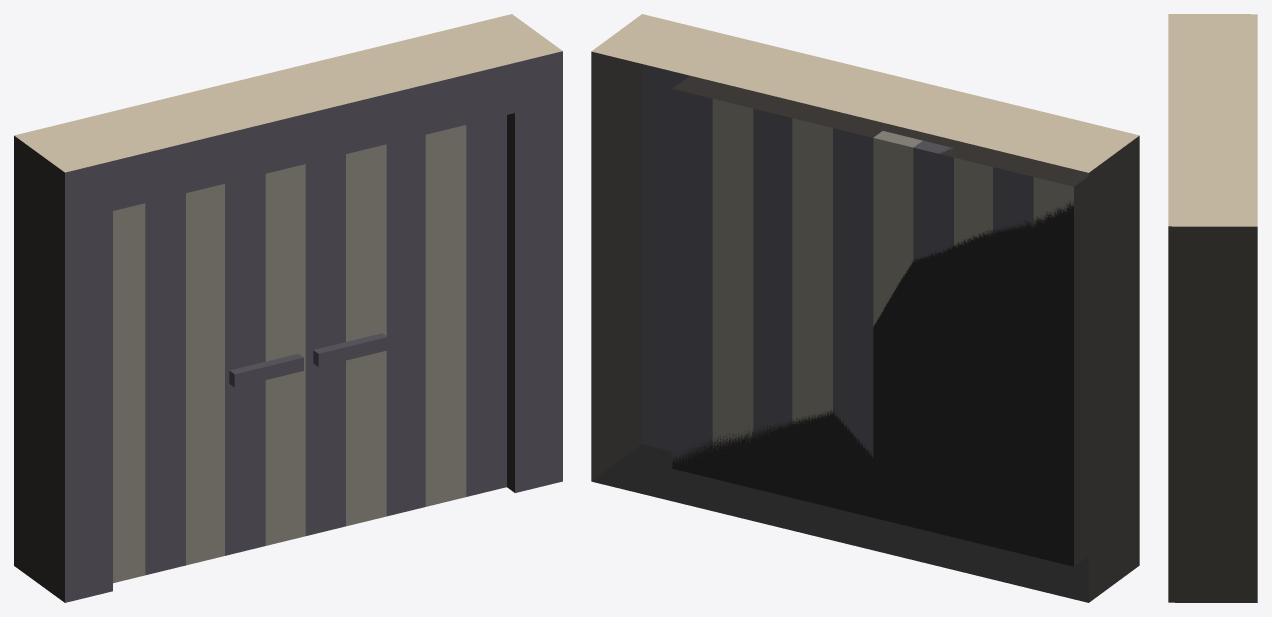
The model's file is TB_D_Bd_Wide_DoorSet_C.FBX.
3 renders of one model, left to right at view 1: azimuth 30°, elevation 25°; view 2: azimuth 150°, elevation 25°; view 3: azimuth 270°, elevation 25°, orthographic. The views are drawn at different scales.
Parts seen in each view (by area): view 1: TB_D_Bd_Wide_DoorSet_C, TB_D_Bd_Wide_DoorR_C, TB_D_Bd_Wide_DoorL_C; view 2: TB_D_Bd_Wide_DoorSet_C, TB_D_Bd_Wide_DoorR_C, TB_D_Bd_Wide_DoorL_C; view 3: TB_D_Bd_Wide_DoorSet_C.
Part boxes in pixels (left/top/right/bottom): TB_D_Bd_Wide_DoorSet_C: left=14, top=14, right=562, bottom=602; TB_D_Bd_Wide_DoorR_C: left=305, top=115, right=506, bottom=535; TB_D_Bd_Wide_DoorL_C: left=113, top=164, right=305, bottom=583; TB_D_Bd_Wide_DoorSet_C: left=591, top=14, right=1139, bottom=602; TB_D_Bd_Wide_DoorR_C: left=672, top=89, right=873, bottom=465; TB_D_Bd_Wide_DoorL_C: left=873, top=131, right=1073, bottom=326; TB_D_Bd_Wide_DoorSet_C: left=1168, top=14, right=1257, bottom=602.
Bounding box in the file's own units: 2.28 × 1.88 × 0.4047.
